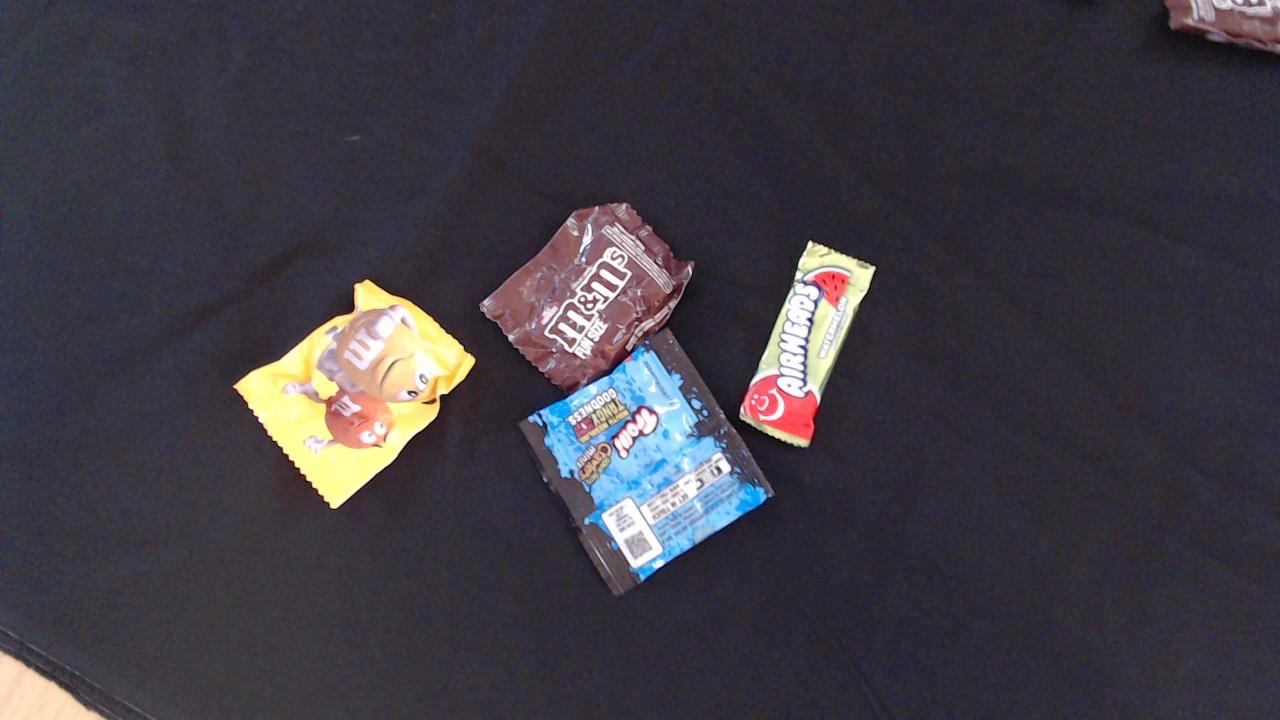MM_regular: (481, 204, 697, 395)
MM_yellow: (234, 280, 478, 509)
Trolli: (517, 333, 776, 597)
airheads: (738, 241, 876, 448)
